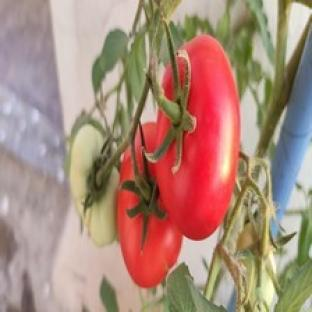Tomato: (156, 35, 239, 239), (117, 189, 182, 288), (70, 124, 118, 245), (237, 223, 275, 306)
